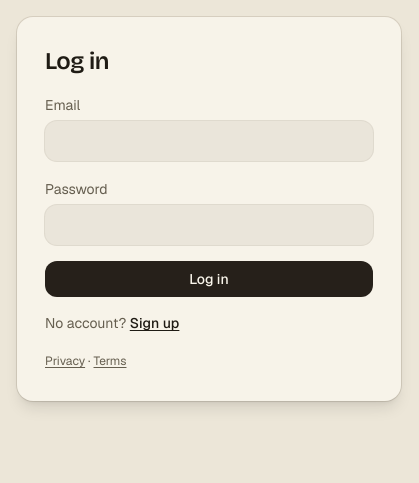
Test case: LoginForm › shows a connection message, and keeps the email, when sign-in throws
Type "ann@example.com" into the field labelled "Email" at (209, 141), box left=45, top=121, right=373, bottom=161
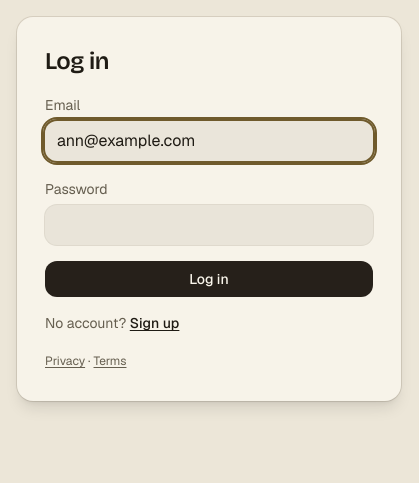
Type "correct-horse" into the password field labelled "Password" at (209, 225), box left=45, top=205, right=373, bottom=245
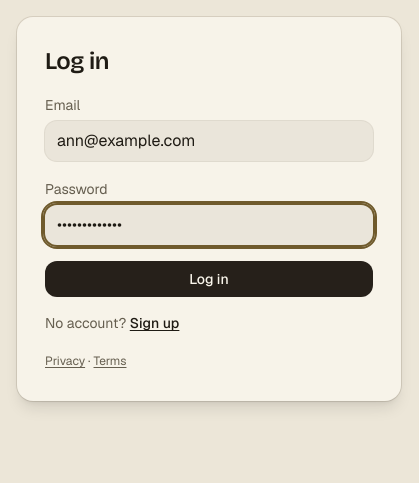
Click the button "Log in" at (209, 279), box left=45, top=261, right=373, bottom=297
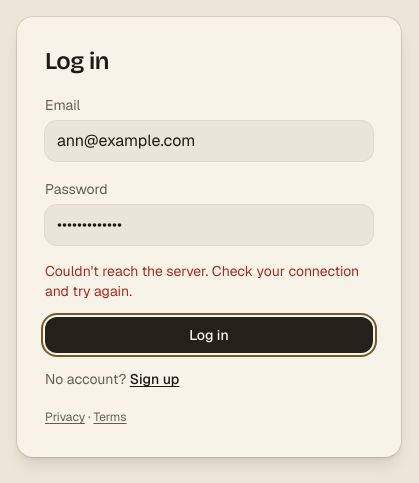
Expected: the message shows "reach the server", left=45, top=262, right=359, bottom=300
